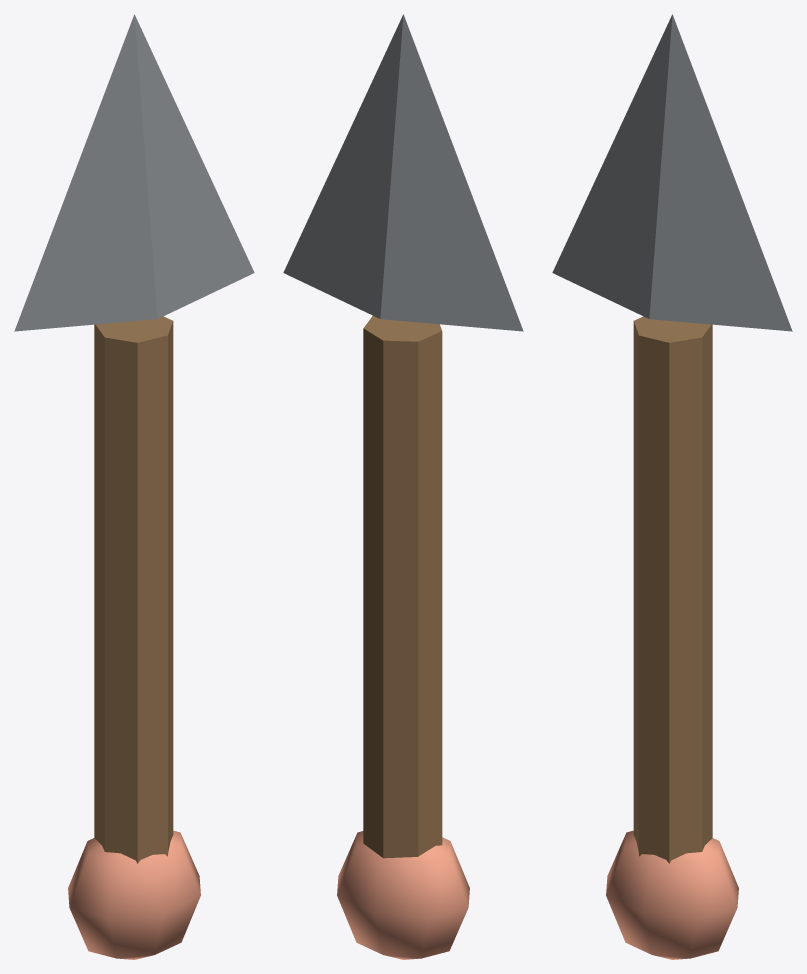
The model's file is hoplite_reaper_scythe.glb.
3 renders of one model, left to right at view 1: azimuth 30°, elevation 25°; view 2: azimuth 150°, elevation 25°; view 3: azimuth 330°, elevation 25°, orthographic.
Parts seen in each view (by area): view 1: hoplite_reaper_scythe_root; view 2: hoplite_reaper_scythe_root; view 3: hoplite_reaper_scythe_root.
Part boxes in pixels (left/top/right/bottom): hoplite_reaper_scythe_root: left=14, top=14, right=254, bottom=959; hoplite_reaper_scythe_root: left=283, top=14, right=523, bottom=959; hoplite_reaper_scythe_root: left=552, top=14, right=792, bottom=959.
Bounding box in the file's own units: 0.5186 × 1.95 × 0.2161.
